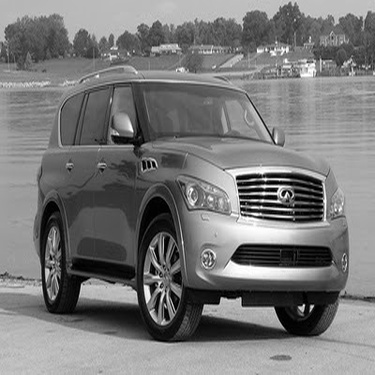car: (22, 51, 355, 352)
